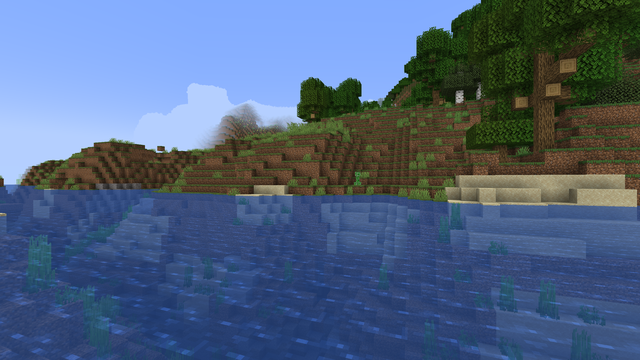creepers: (354, 171, 359, 184)
